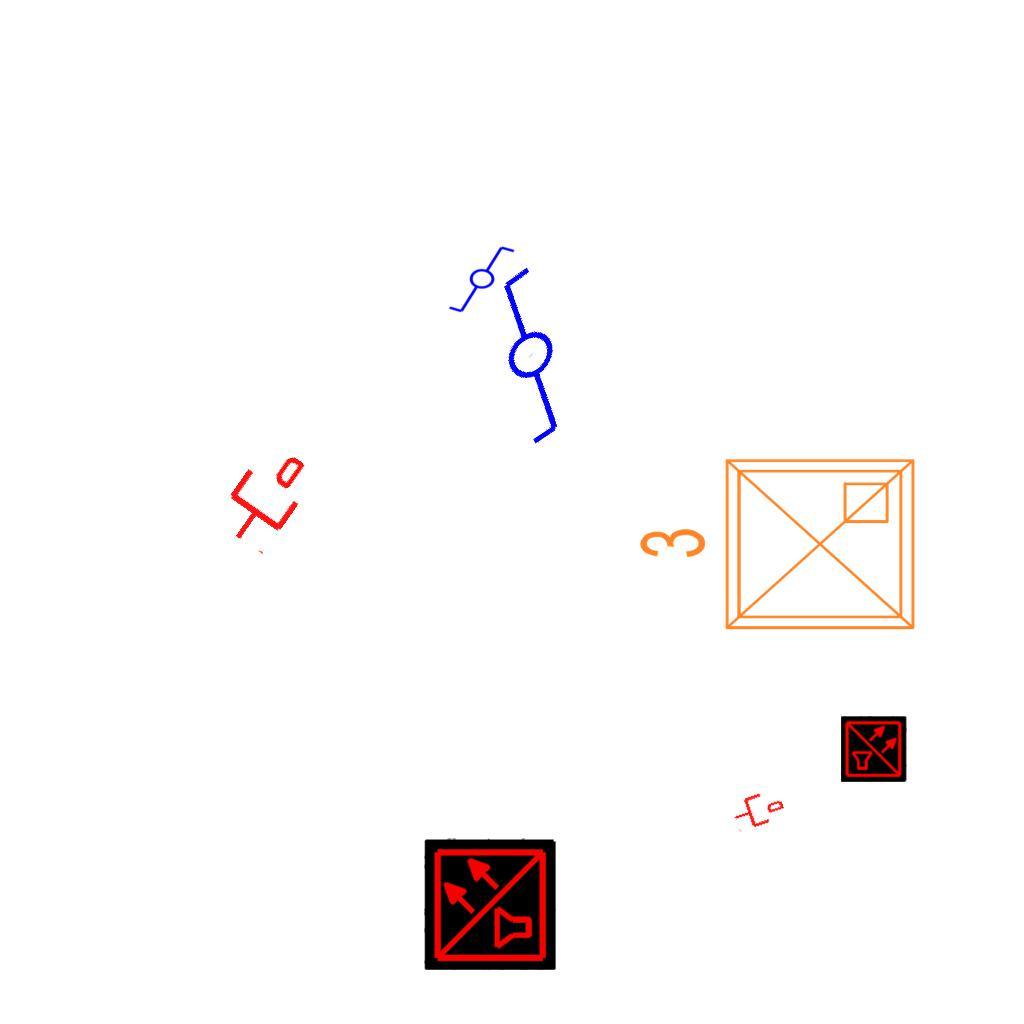Datenanschluss_einfach: (208, 437, 323, 559), (728, 785, 788, 835)
Einbaudownlights_LED_Konferenzraeume: (629, 444, 929, 652)
OKW_Multisensormelder_(Kombination_optischer_Rauch-Kahlenmonoxid_Waerme-Melder): (424, 838, 556, 970), (841, 716, 907, 782)
Wechselschalter: (432, 243, 643, 457), (447, 244, 525, 316)
